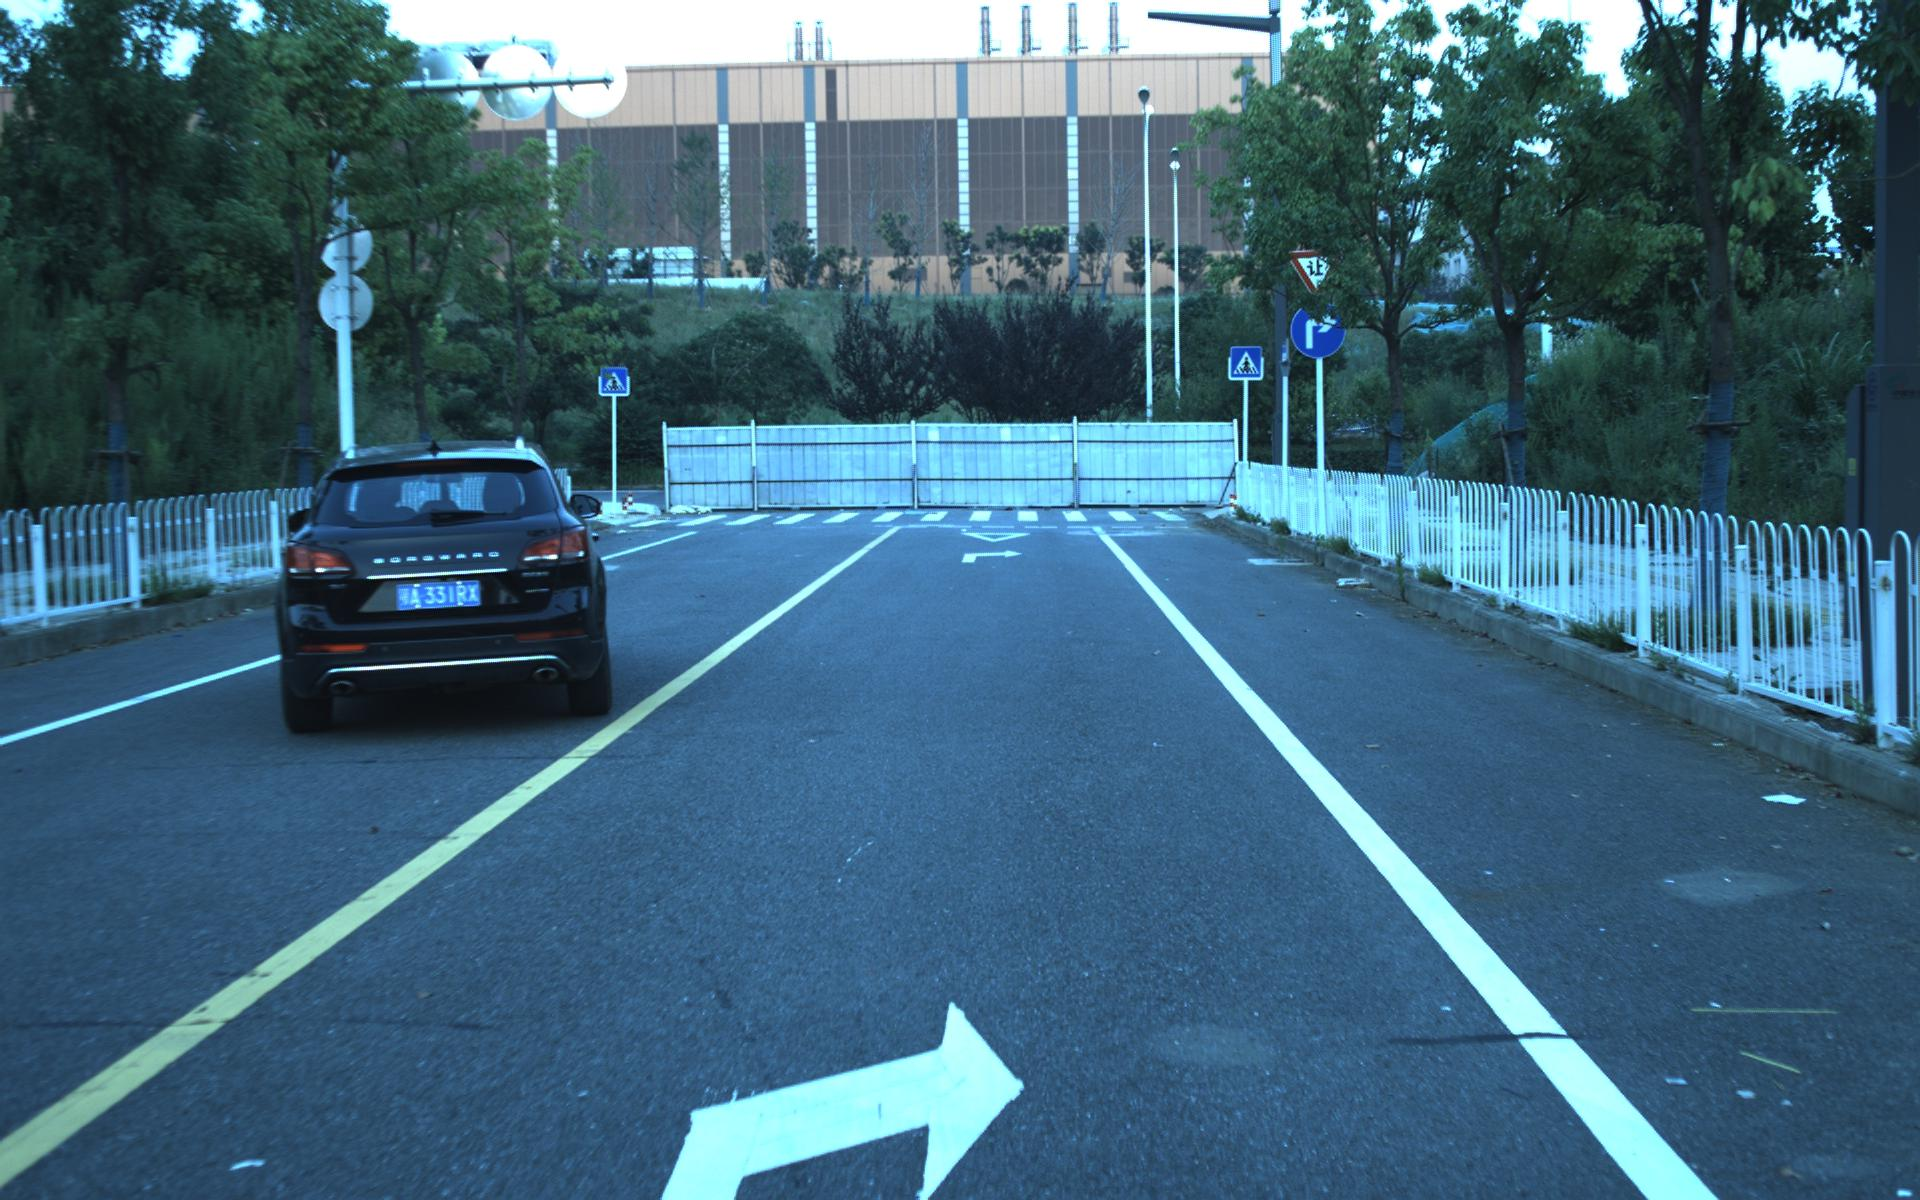Car: (267, 435, 618, 738)
